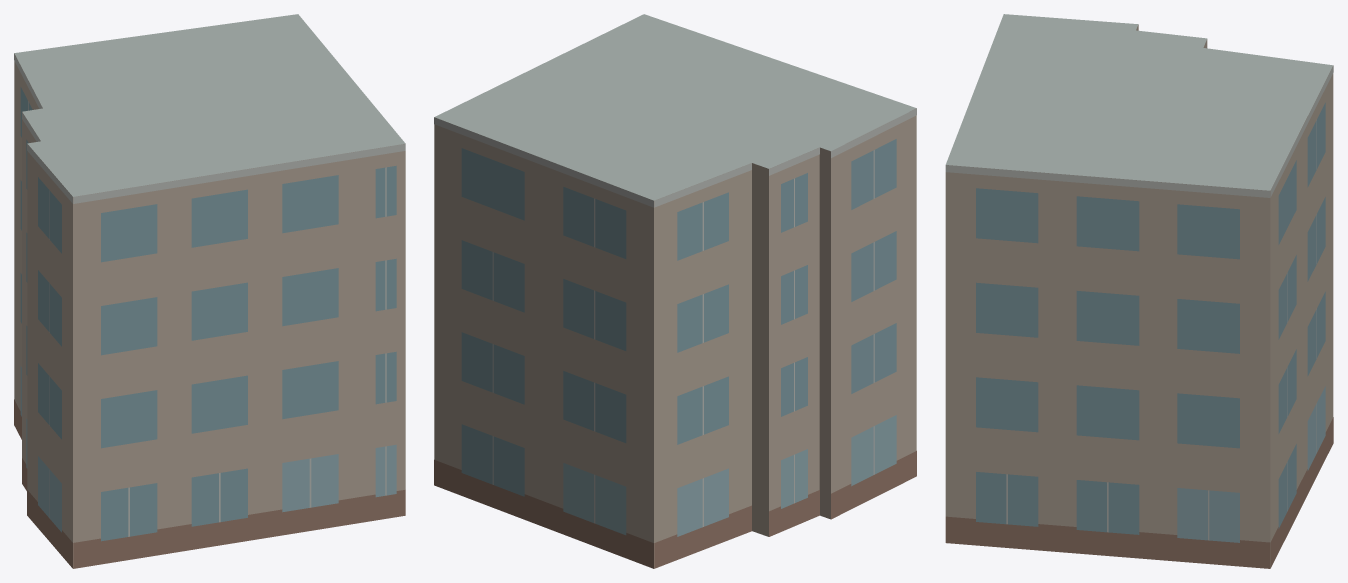
File: survey-upis-32682621.glb
3 views of the same model, side by side, from view 1: azimuth 30°, elevation 25°; view 2: azimuth 150°, elevation 25°; view 3: azimuth 270°, elevation 25° (orthographic). The views are drawn at different scales.
Visible parts, largest first — view 1: survey-upis-32682621.tmp; view 2: survey-upis-32682621.tmp; view 3: survey-upis-32682621.tmp.
Part boxes in pixels (x1,y1,x2,y2): survey-upis-32682621.tmp: (14, 14, 405, 568); survey-upis-32682621.tmp: (434, 14, 916, 568); survey-upis-32682621.tmp: (945, 14, 1333, 568).
Bounding box in the file's own units: 12.74 × 12.7 × 11.81.
